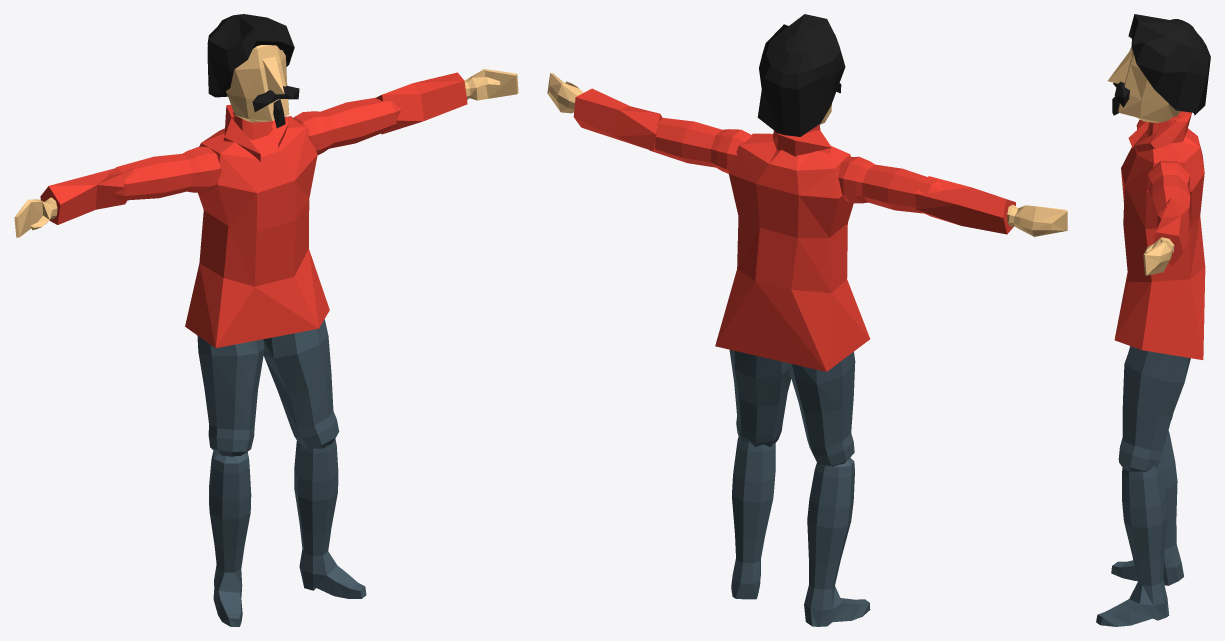
Rendered from PersonaSola.fbx.
3 renders of one model, left to right at view 1: azimuth 30°, elevation 25°; view 2: azimuth 150°, elevation 25°; view 3: azimuth 270°, elevation 25°, orthographic. The views are drawn at different scales.
Visible parts, largest first — view 1: group1794093376, group1578840458, group1874662402, group1131172432, group719248615, group938122174, group502874426, group368397114.001, group502874426.001, group368397114; view 2: group1794093376, group1578840458, group938122174, group1131172432, group719248615, group502874426.001, group1874662402, group502874426, group368397114.001, group368397114; view 3: group1794093376, group1578840458, group1131172432, group1874662402, group938122174, group502874426, group368397114.
Part boxes in pixels (x1,y1,x2,y2): group1794093376: (185,104,329,347); group1578840458: (207,14,299,128); group1874662402: (263,319,339,449); group1131172432: (294,438,366,598); group719248615: (197,335,264,456); group938122174: (209,451,251,626); group502874426: (376,69,518,134); group368397114.001: (108,146,221,200); group502874426.001: (14,168,133,237); group368397114: (293,97,400,154); group1794093376: (715,125,869,371); group1578840458: (757,14,845,136); group938122174: (804,457,870,626); group1131172432: (731,436,775,599); group719248615: (787,352,855,466); group502874426.001: (915,176,1067,236); group1874662402: (729,350,791,446); group502874426: (547,73,662,151); group368397114.001: (838,156,942,213); group368397114: (645,118,751,173); group1794093376: (1114,111,1205,359); group1578840458: (1108,14,1210,122); group1131172432: (1096,463,1169,626); group1874662402: (1118,346,1190,471); group938122174: (1111,430,1183,585); group502874426: (1143,198,1190,275); group368397114: (1147,160,1190,226).
Bounding box in the file's own units: 281 × 309 × 55.97.
